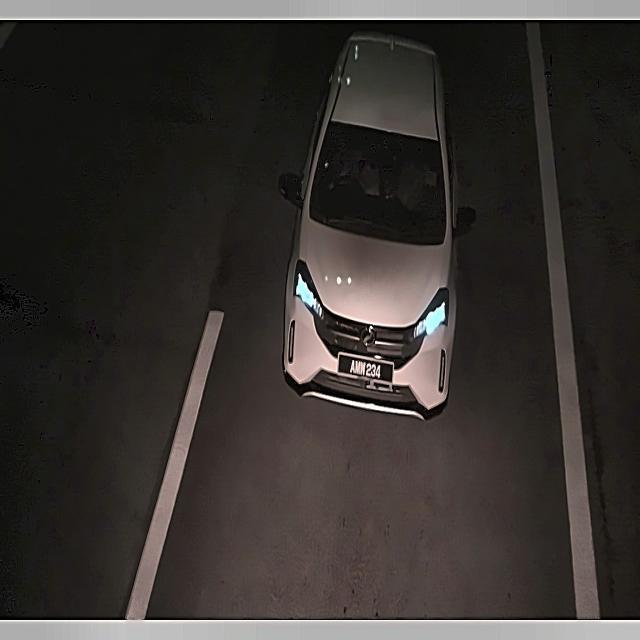car: (339, 351, 392, 390)
